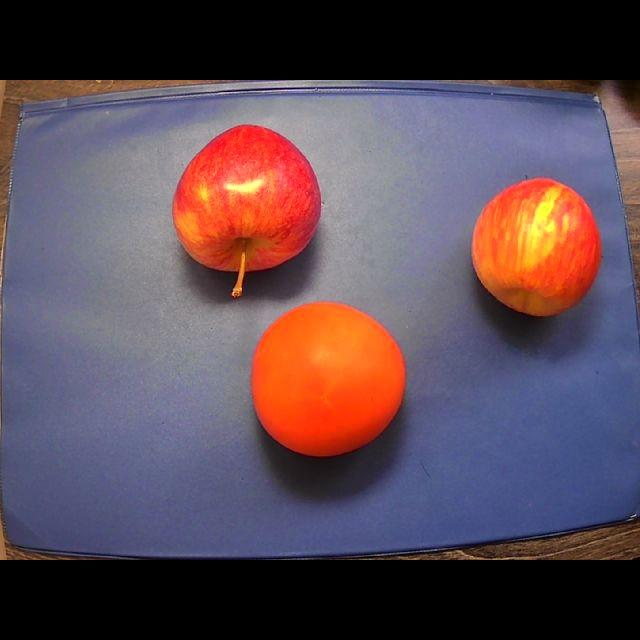manzana: (173, 125, 320, 297), (472, 178, 601, 315)
tomate: (252, 303, 405, 456)
